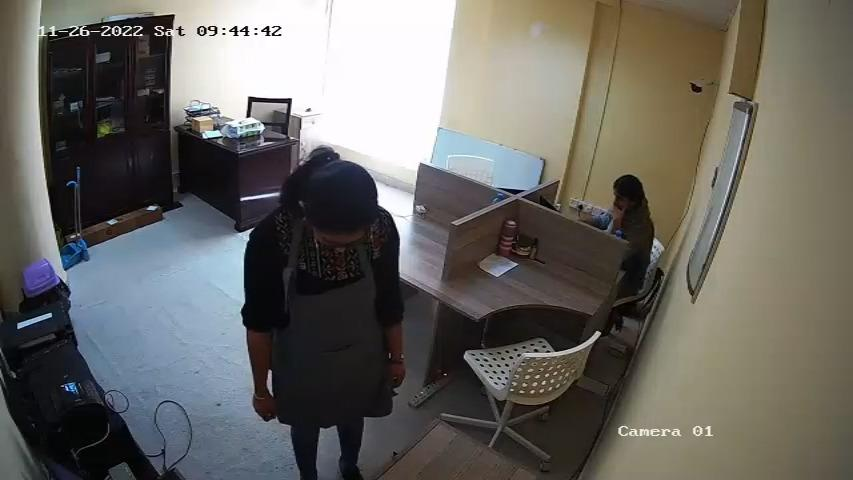apron: (280, 254, 384, 416)
